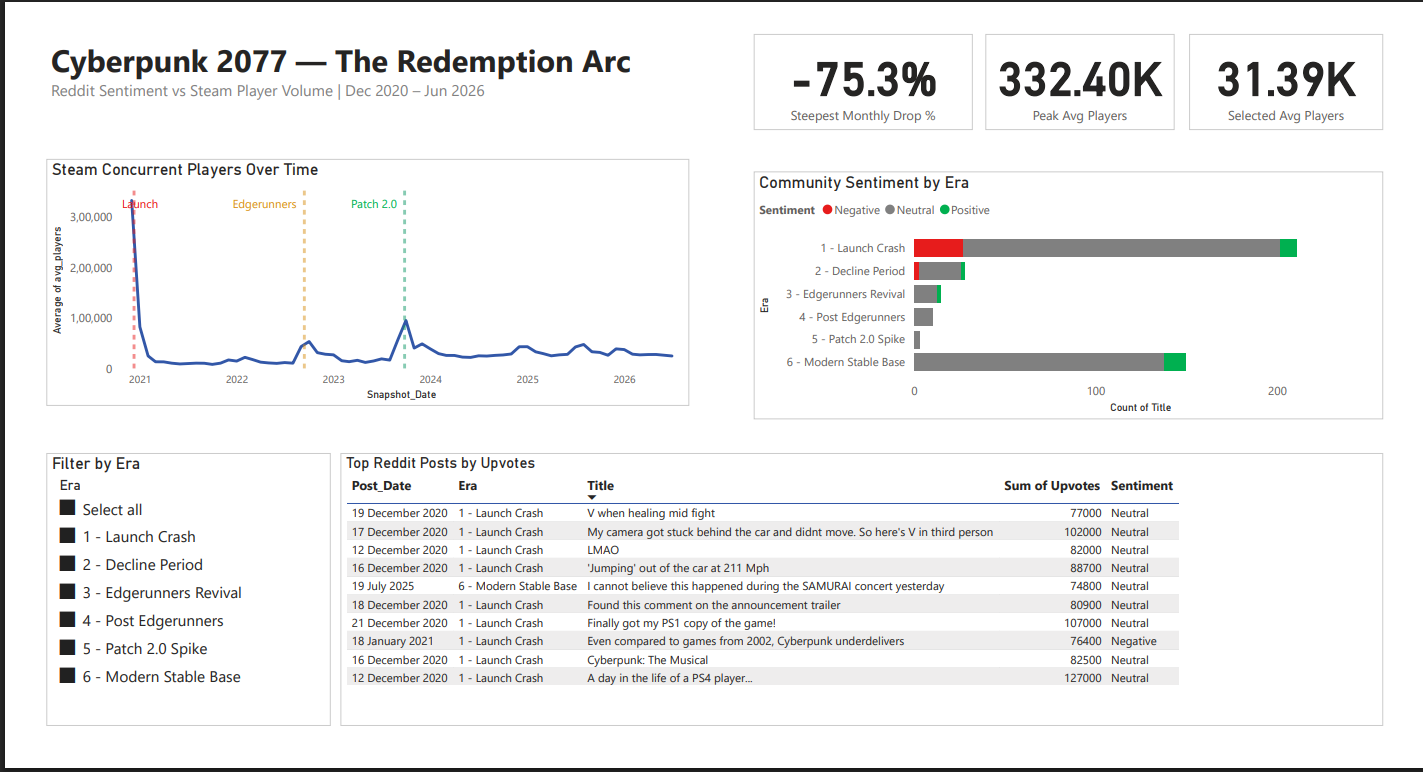

The dashboard page shown, as its layout file describes it:
{"tool":"powerbi","page":{"name":"Redemption Arc","canvas":[1430,749],"ordinal":0},"visuals":[{"type":"textbox","box":[20,10,668.6,85.7],"z":0},{"type":"card","fields":{"Values":["powerbi_monthly_summary.Peak Avg Players"]},"box":[997.1,10,197.1,100],"z":1000},{"type":"card","fields":{"Values":["powerbi_monthly_summary.Selected Avg Players"]},"box":[1208.6,10,202.9,100],"z":3000},{"type":"lineChart","title":"Steam Concurrent Players Over Time","fields":{"Y":["Avg(powerbi_monthly_summary.avg_players)"],"Category":["powerbi_monthly_summary.Snapshot_Date"]},"box":[20,140,668.6,257.1],"z":3001},{"type":"barChart","title":"Community Sentiment by Era","fields":{"Y":["CountNonNull(powerbi_reddit_posts.Title)"],"Series":["powerbi_reddit_posts.Sentiment"],"Category":["powerbi_reddit_posts.Era"]},"box":[755.7,152.9,655.7,258.6],"z":3002},{"type":"tableEx","title":"Top Reddit Posts by Upvotes","fields":{"Values":["powerbi_reddit_posts.Post_Date","powerbi_reddit_posts.Era","powerbi_reddit_posts.Title","Sum(powerbi_reddit_posts.Upvotes)","powerbi_reddit_posts.Sentiment"]},"box":[325.7,445.7,1085.7,284.3],"z":3003},{"type":"slicer","title":"Filter by Era","fields":{"Values":["powerbi_reddit_posts.Era"]},"box":[20,445.7,295.7,284.3],"z":3004},{"type":"card","fields":{"Values":["powerbi_monthly_summary.Steepest Drop"]},"box":[755.7,10,228.6,100],"z":3005}]}

Visuals, with their boxes in screenshot pixels (x1, y1, x2, y2):
textbox: 0/84/633/165
card - powerbi_monthly_summary.Peak Avg Players: 925/84/1112/178
card - powerbi_monthly_summary.Selected Avg Players: 1125/84/1318/178
"Steam Concurrent Players Over Time" lineChart: 0/207/633/450
"Community Sentiment by Era" barChart: 697/219/1317/464
"Top Reddit Posts by Upvotes" tableEx: 290/496/1317/765
"Filter by Era" slicer: 0/496/280/765
card - powerbi_monthly_summary.Steepest Drop: 697/84/913/178
